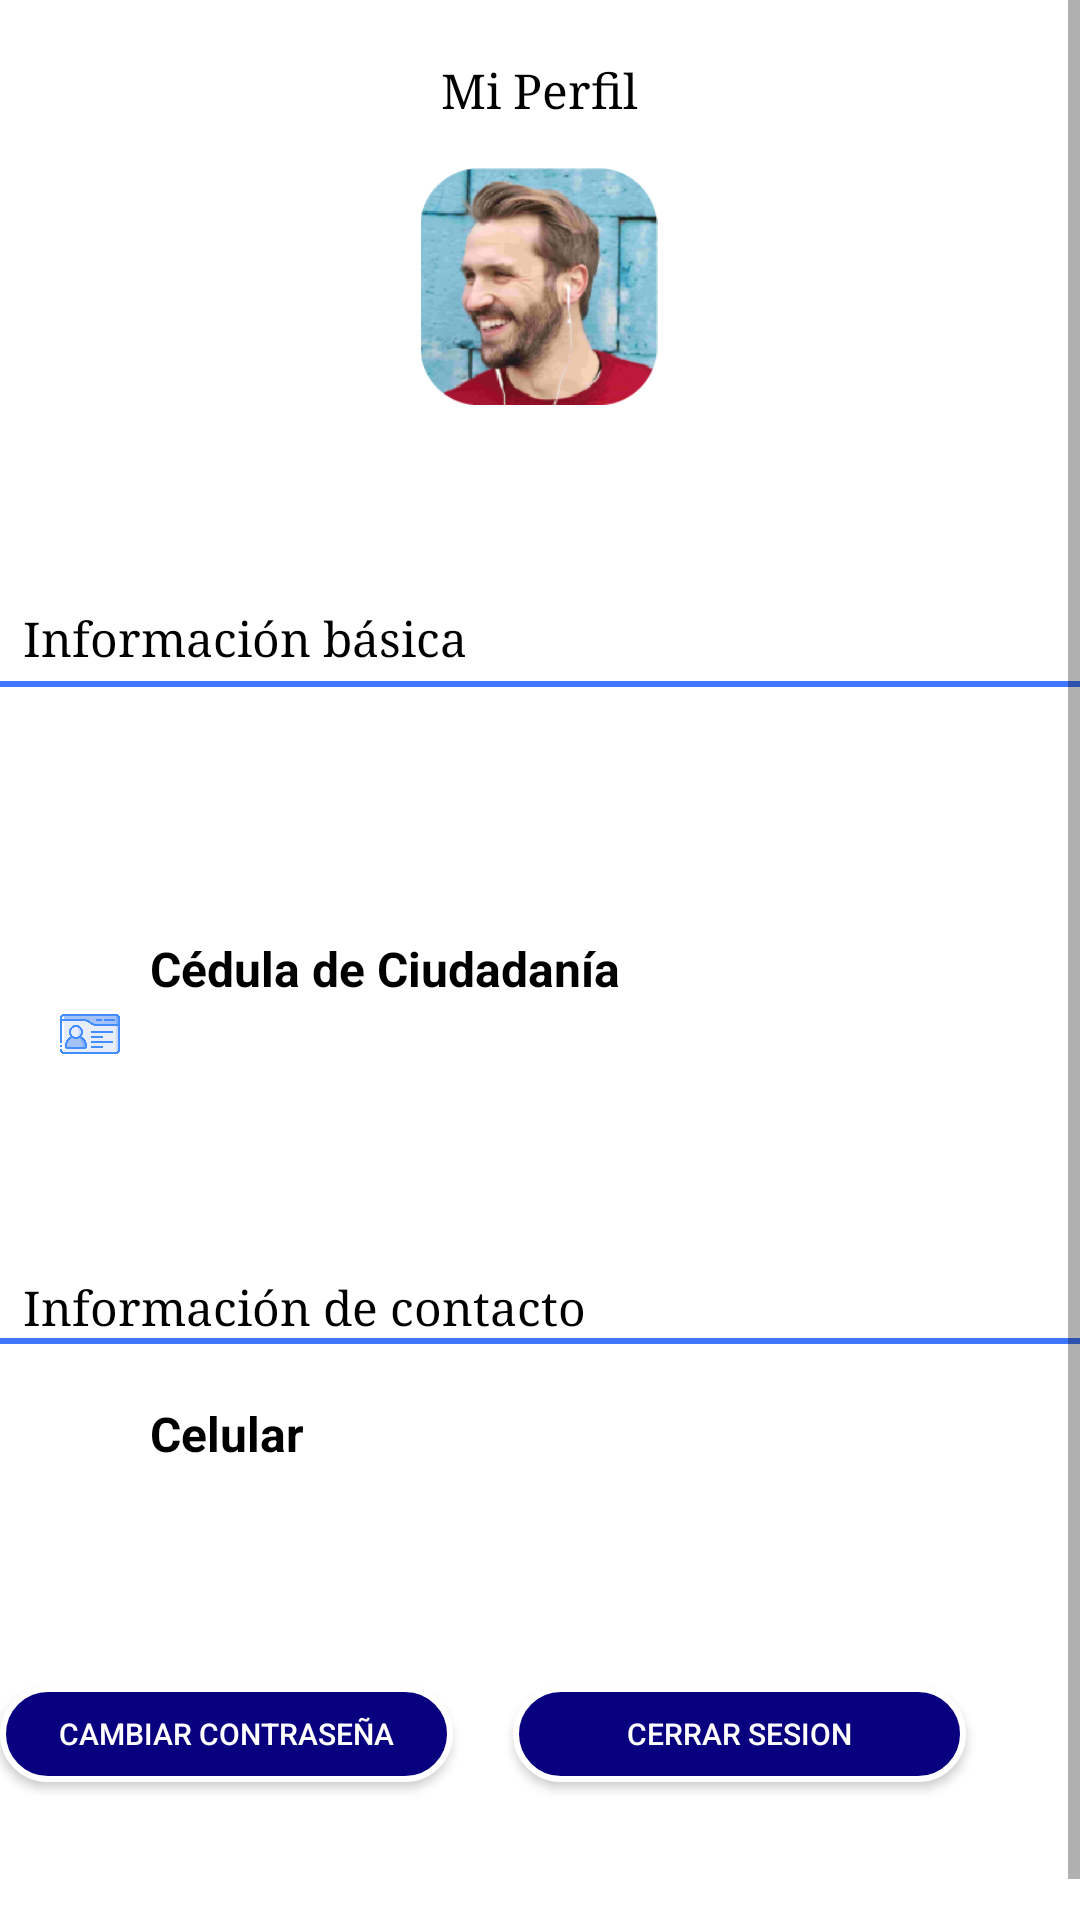

Named icons in this screenshot (1080px×1920px) and their bounding boxes, (x1=x1, y1=y1, x2=x2, y2=y2):
cedula: (x1=60, y1=1014, x2=120, y2=1054)
perfilfoto: (x1=421, y1=168, x2=658, y2=405)
